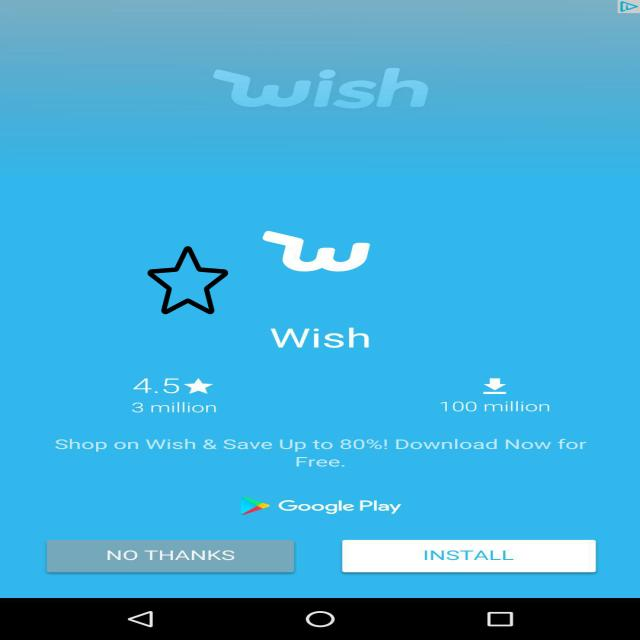forced continuity: (148, 244, 228, 316)
